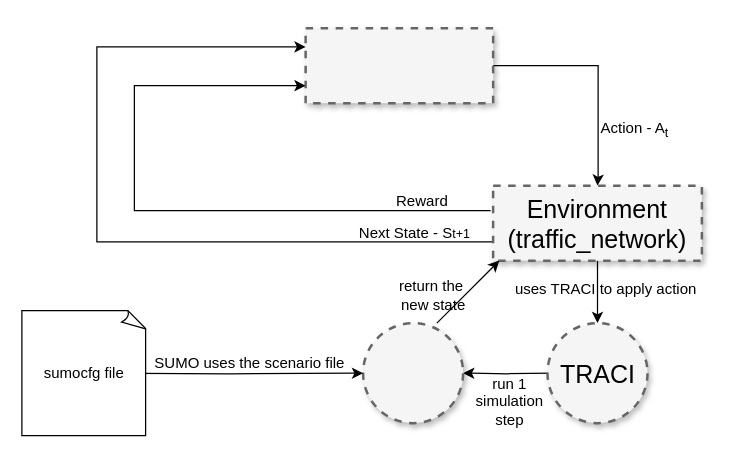
Some shapes in this 734 by 460 pixel diagram are drawn without their labels. Here are the shapes that lost their labels. From the top down, the centre of each, then its label:
At point (400, 66): "TLS".
At point (413, 374): "SUMO".
